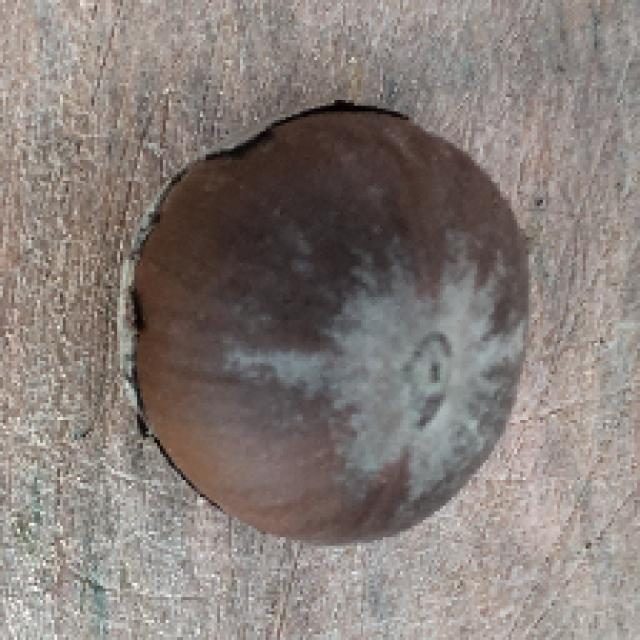damagedHazelnut: (108, 100, 537, 548)
